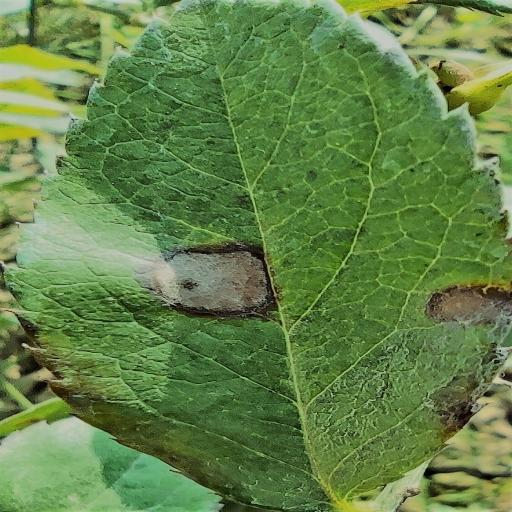black_spot: (6, 0, 511, 512)
